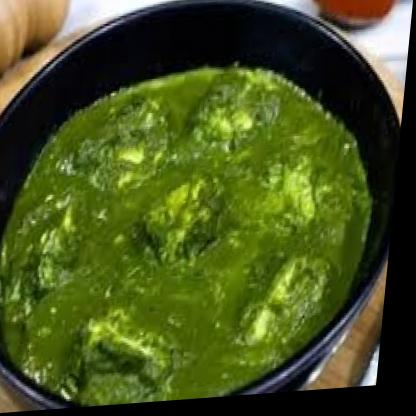palak_paneer: (0, 61, 386, 415)
